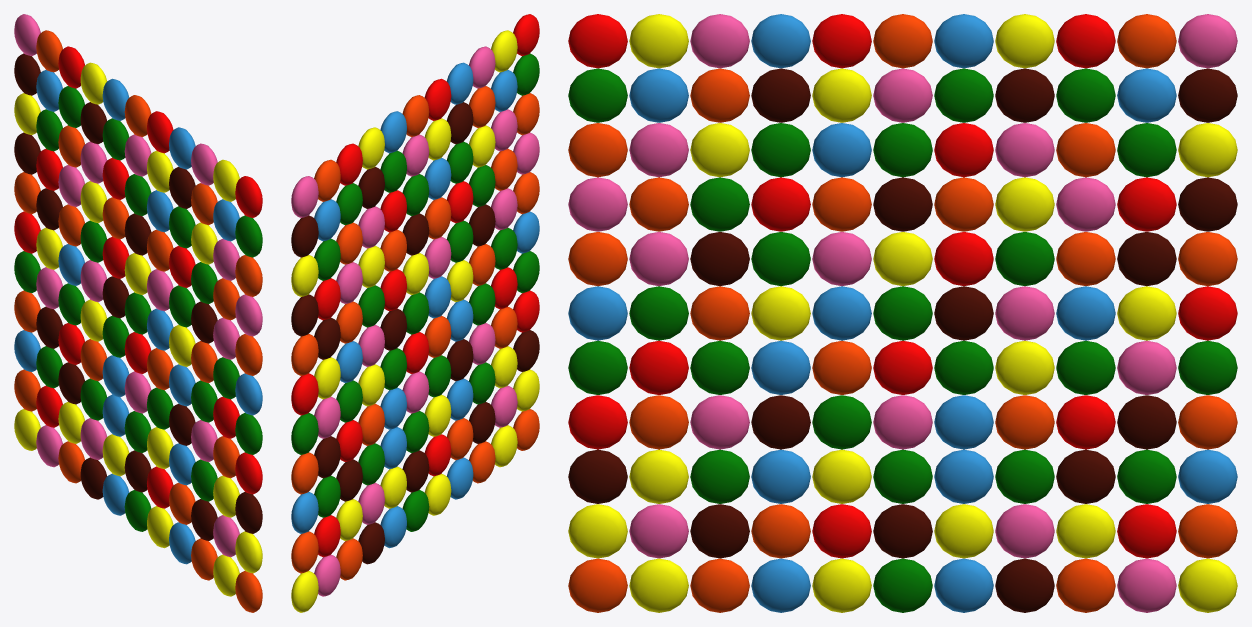
Rendered from wall_marble_01.FBX.
The picture shows the model from 3 angles, left to right: view 1: azimuth 30°, elevation 25°; view 2: azimuth 150°, elevation 25°; view 3: azimuth 270°, elevation 25°; orthographic projection. The views are drawn at different scales.
Parts seen in each view (by area): view 1: wall_marble_01; view 2: wall_marble_01; view 3: wall_marble_01.
Boxes of the visible parts, box(x1,y1,x2,y2) form: wall_marble_01: box(14, 14, 262, 612); wall_marble_01: box(291, 14, 539, 612); wall_marble_01: box(568, 14, 1237, 612).
Bounding box in the file's own units: 3.54 × 84.74 × 85.89.
